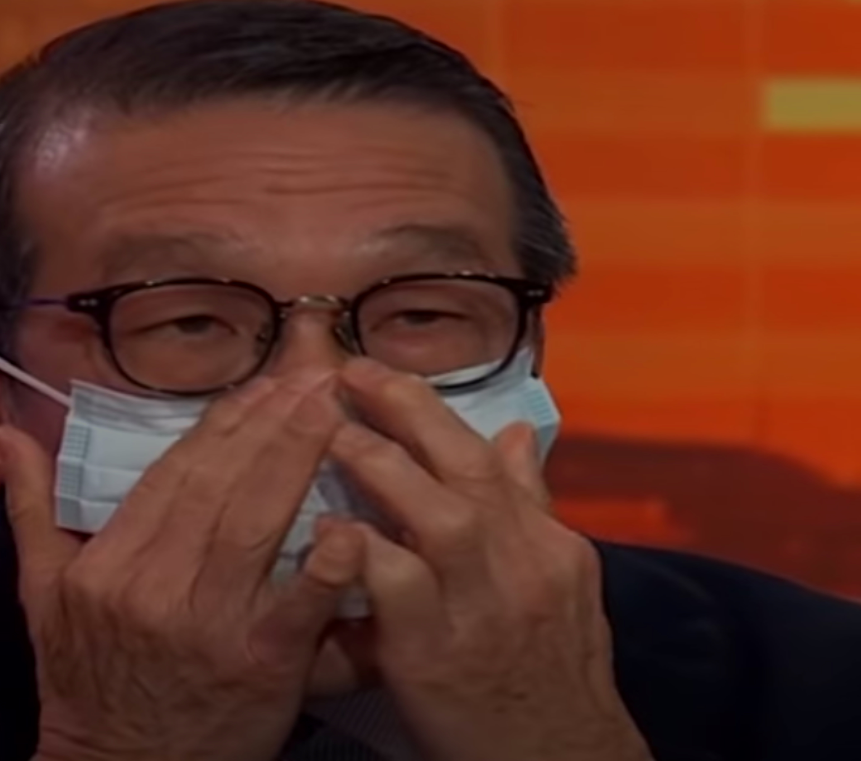mask_weared_incorrect: (1, 26, 561, 704)
